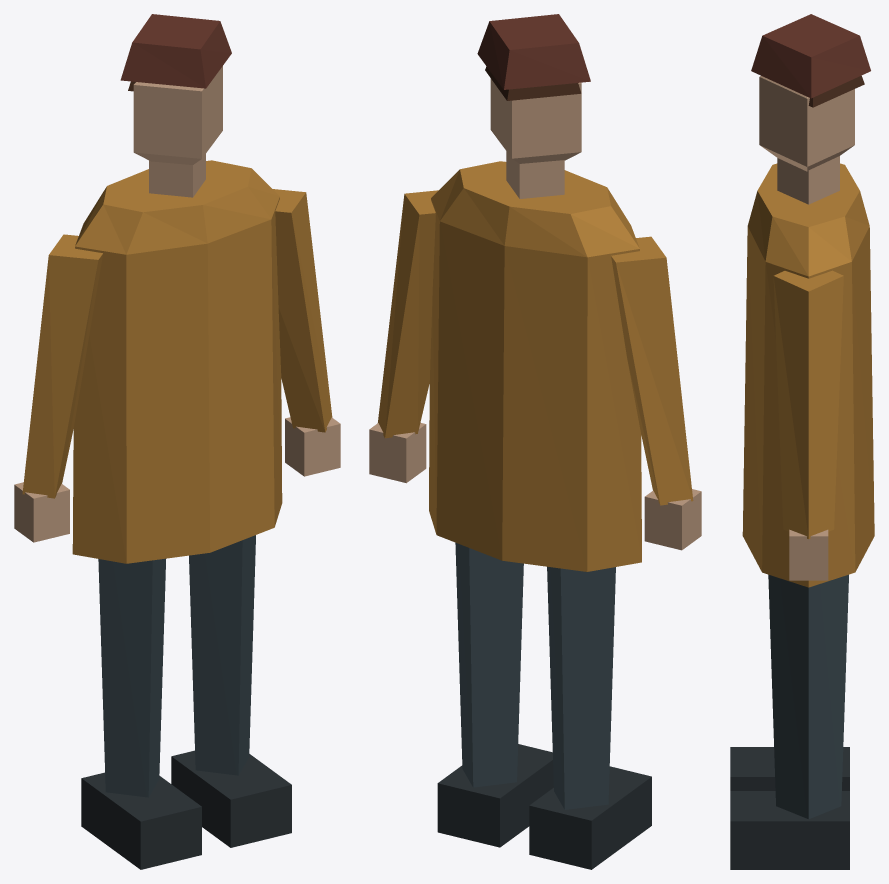
Rendered from pedestrian-raincoat.lod1.glb.
3 views of the same model, side by side, from view 1: azimuth 30°, elevation 25°; view 2: azimuth 150°, elevation 25°; view 3: azimuth 270°, elevation 25° (orthographic).
Parts seen in each view (by area): view 1: pedestrian-body; view 2: pedestrian-body; view 3: pedestrian-body.
Part boxes in pixels (x1=…): pedestrian-body: x1=14, y1=14, x2=340, y2=869; pedestrian-body: x1=369, y1=14, x2=701, y2=869; pedestrian-body: x1=730, y1=14, x2=874, y2=869.
Size of the model in its own units: 0.6854 by 1.67 by 0.2742.
